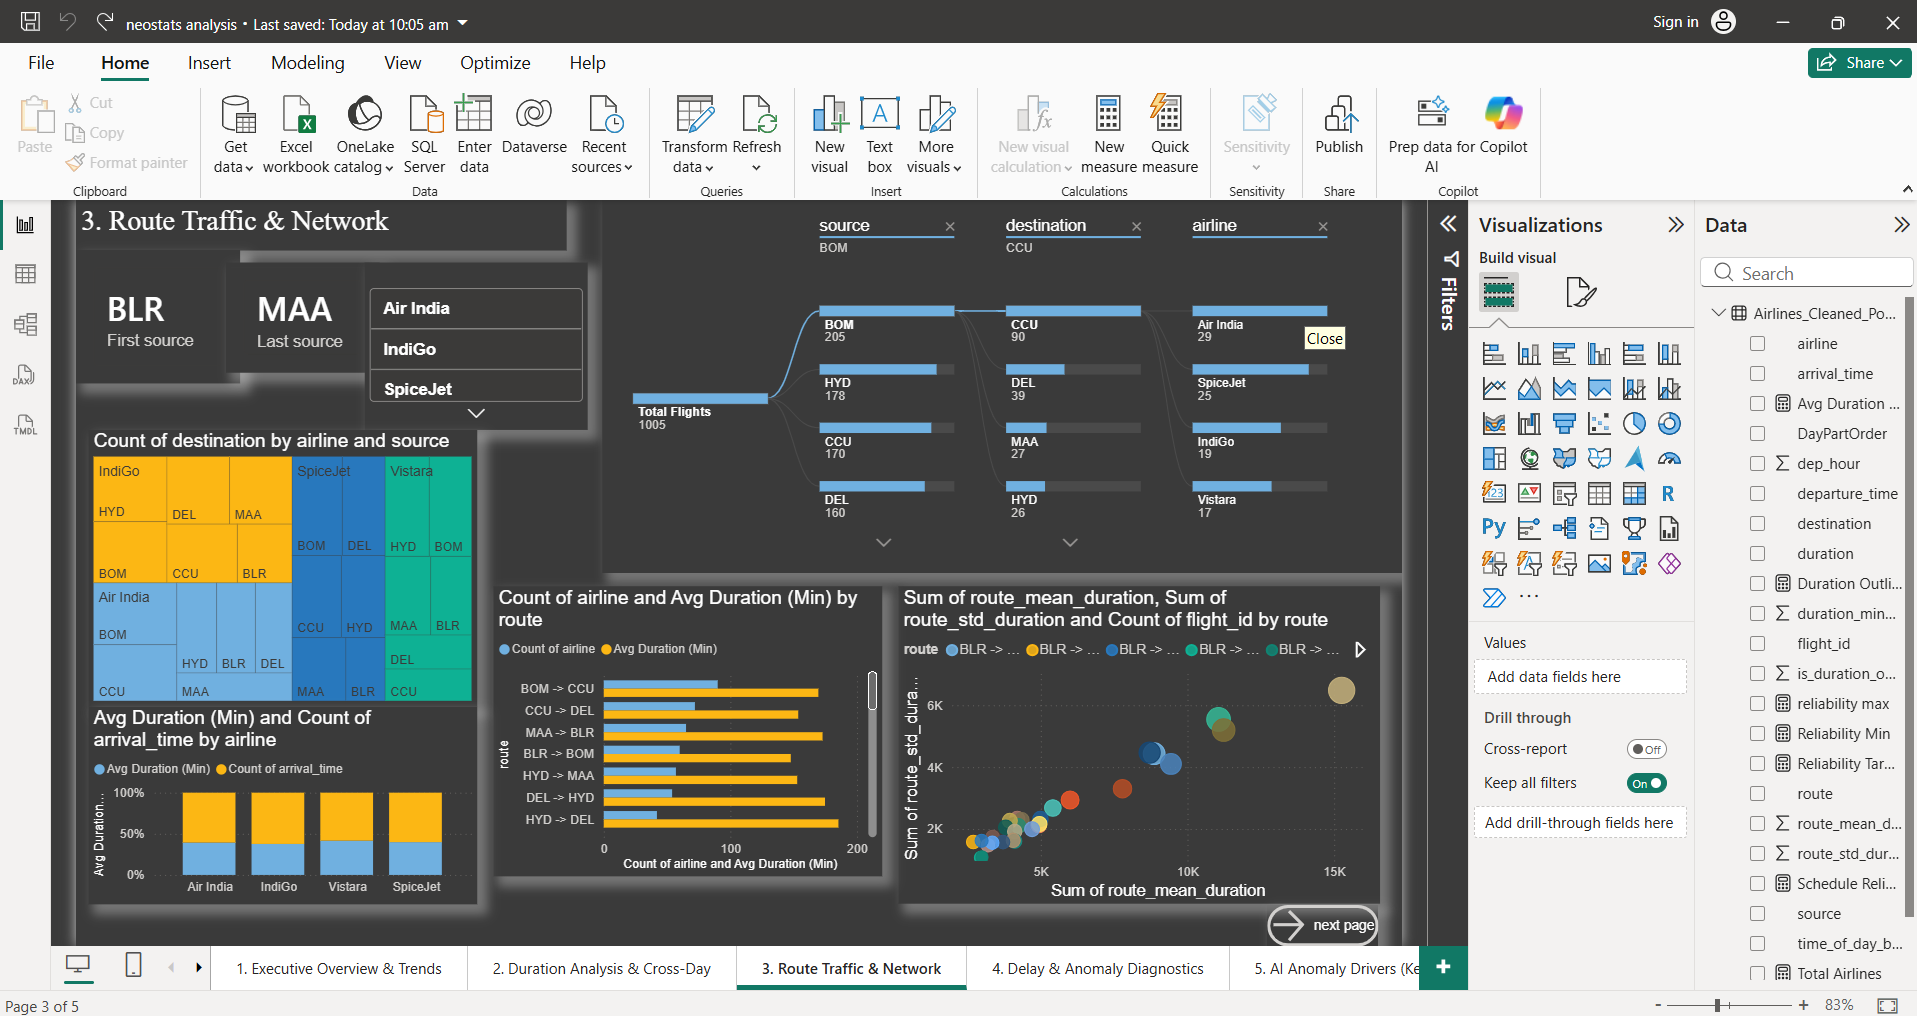

The page's visual inventory and layout, read from the dashboard file:
{"tool":"powerbi","page":{"name":"3. Route Traffic & Network","canvas":[1280,720],"ordinal":2},"visuals":[{"type":"textbox","box":[0,0,473.6,48.6],"z":0},{"type":"cardVisual","fields":{"Data":["Min(Airlines_Cleaned_PowerBI.source)"]},"box":[0,48.6,158.3,129.2],"z":1000},{"type":"cardVisual","fields":{"Data":["Max(Airlines_Cleaned_PowerBI.source)"]},"box":[145,60,148.3,106.7],"z":2000},{"type":"cardVisual","fields":{"Data":["Min(Airlines_Cleaned_PowerBI.destination)"],"Rows":["Airlines_Cleaned_PowerBI.airline"]},"box":[278.3,60,215,161.7],"z":3000},{"type":"treemap","fields":{"Values":["CountNonNull(Airlines_Cleaned_PowerBI.destination)"],"Details":["Airlines_Cleaned_PowerBI.source"],"Group":["Airlines_Cleaned_PowerBI.airline"]},"box":[11.7,221.7,375,266.7],"z":4000},{"type":"decompositionTreeVisual","fields":{"ExplainBy":["Airlines_Cleaned_PowerBI.source","Airlines_Cleaned_PowerBI.destination","Airlines_Cleaned_PowerBI.airline"],"Analyze":["Airlines_Cleaned_PowerBI.Total Flights"]},"box":[508.3,0,771.7,360],"z":5000},{"type":"scatterChart","fields":{"X":["Sum(Airlines_Cleaned_PowerBI.route_mean_duration)"],"Y":["Sum(Airlines_Cleaned_PowerBI.route_std_duration)"],"Size":["CountNonNull(Airlines_Cleaned_PowerBI.flight_id)"],"Series":["Airlines_Cleaned_PowerBI.route"]},"box":[793.3,373.3,465,306.7],"z":6000},{"type":"clusteredBarChart","fields":{"Category":["Airlines_Cleaned_PowerBI.route"],"Y":["CountNonNull(Airlines_Cleaned_PowerBI.airline)","Airlines_Cleaned_PowerBI.Avg Duration (Min)"]},"box":[402.5,372.5,375,280],"z":7000},{"type":"hundredPercentStackedColumnChart","fields":{"Y":["Airlines_Cleaned_PowerBI.Avg Duration (Min)","CountNonNull(Airlines_Cleaned_PowerBI.arrival_time)"],"Category":["Airlines_Cleaned_PowerBI.airline"]},"box":[12,489,375,191],"z":8000},{"type":"actionButton","box":[1150,680,107.5,40],"z":9000}]}

Visuals, with their boxes on the page's 1280x720 design canvas (x1, y1, x2, y2). These are canvas units, not pixel positions in the 1917x1016 screenshot, which may show the page scaled, cropped or inside an application window:
textbox: select_region(0, 0, 474, 49)
cardVisual - Min(Airlines_Cleaned_PowerBI.source): select_region(0, 49, 158, 178)
cardVisual - Max(Airlines_Cleaned_PowerBI.source): select_region(145, 60, 293, 167)
cardVisual - Min(Airlines_Cleaned_PowerBI.destination) x Airlines_Cleaned_PowerBI.airline: select_region(278, 60, 493, 222)
treemap - CountNonNull(Airlines_Cleaned_PowerBI.destination) x Airlines_Cleaned_PowerBI.source: select_region(12, 222, 387, 488)
decompositionTreeVisual - Airlines_Cleaned_PowerBI.source x Airlines_Cleaned_PowerBI.destination: select_region(508, 0, 1280, 360)
scatterChart - Sum(Airlines_Cleaned_PowerBI.route_mean_duration) x Sum(Airlines_Cleaned_PowerBI.route_std_duration): select_region(793, 373, 1258, 680)
clusteredBarChart - Airlines_Cleaned_PowerBI.route x CountNonNull(Airlines_Cleaned_PowerBI.airline): select_region(402, 372, 778, 652)
hundredPercentStackedColumnChart - Airlines_Cleaned_PowerBI.Avg Duration (Min) x CountNonNull(Airlines_Cleaned_PowerBI.arrival_time): select_region(12, 489, 387, 680)
actionButton: select_region(1150, 680, 1258, 720)
